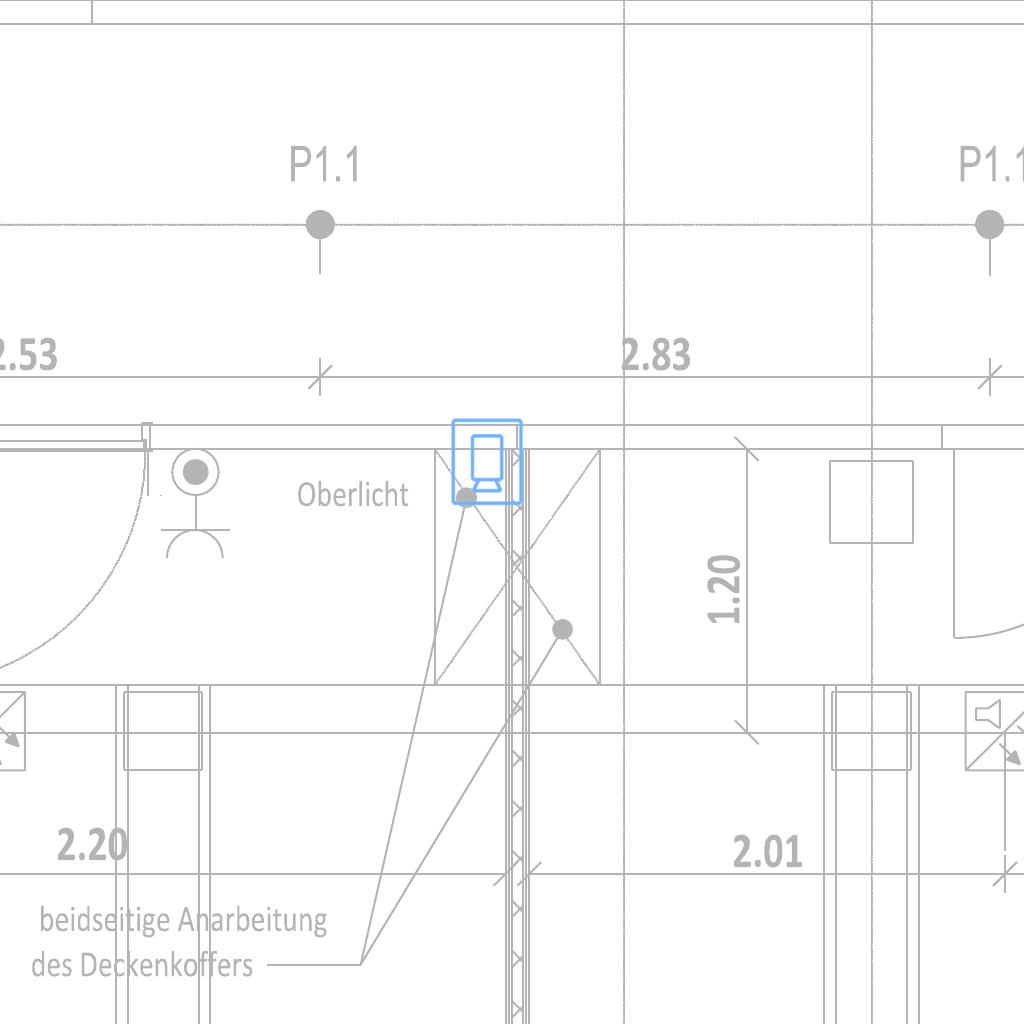KFO_Kamera_mit_Festobjektiv: (448, 416, 525, 507)
